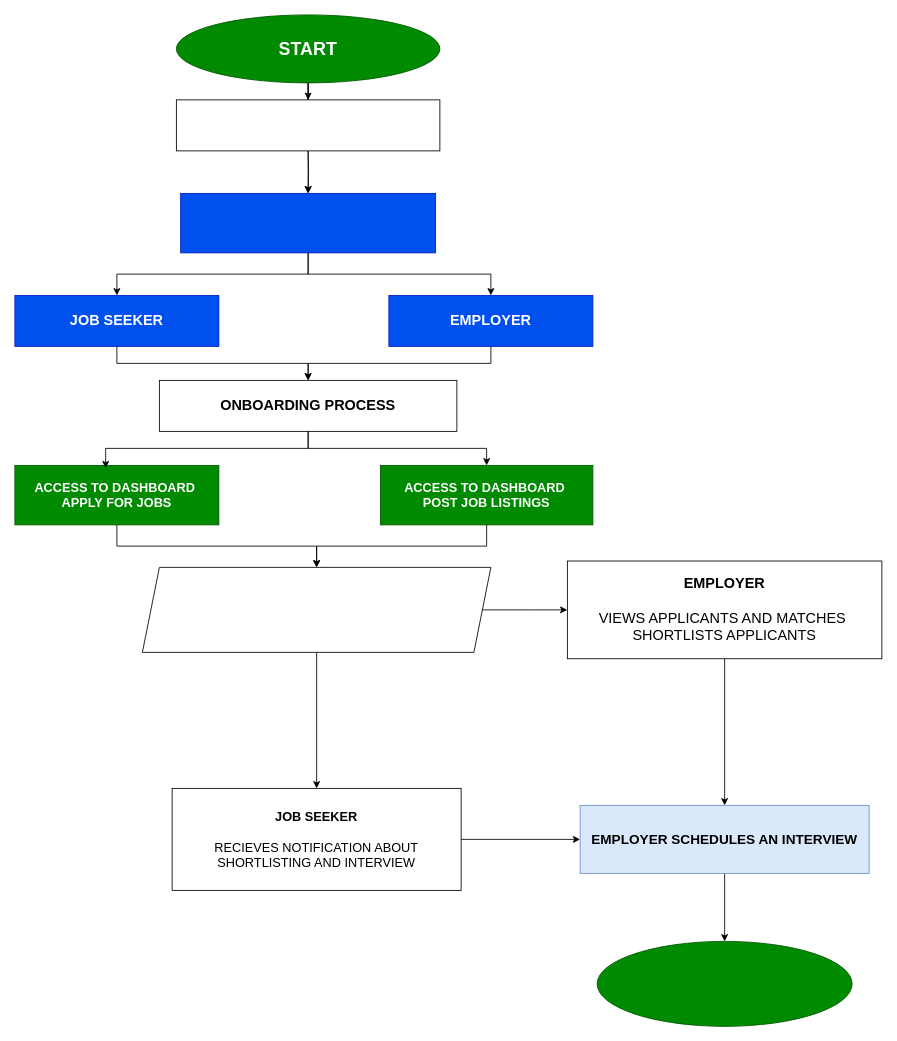
This 897x1041 diagram has some shape labels left out. The shapes that lost their labels are listed below. From the top down, each one's box as (x1, y1, x2, y2) in pixels, then its label:
(176, 99, 440, 151): CREATE ACCOUNT
(180, 193, 436, 253): CHOOSE ROLE
(142, 567, 491, 652): SYSTEM MATCHES QUALIFICATIONS WITH JOB REQUIREMENTS
(596, 941, 852, 1026): END
